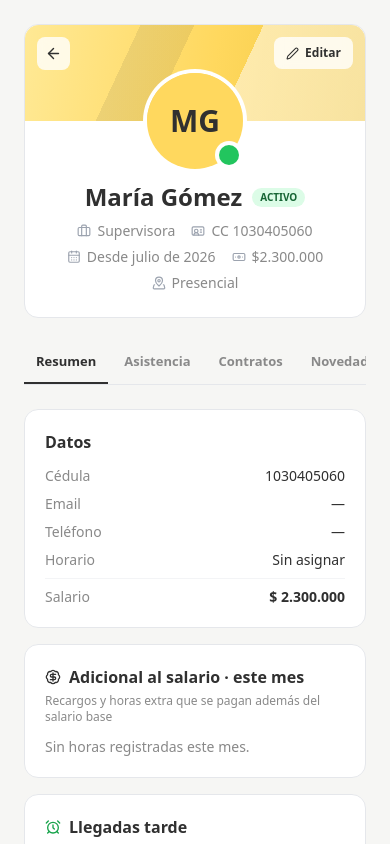
Test case: guardar en «Editar datos» › si no hay respuesta del servidor, lo dice con sus palabras
Click the button "Editar" at (314, 53), box 274,37 -> 353,69
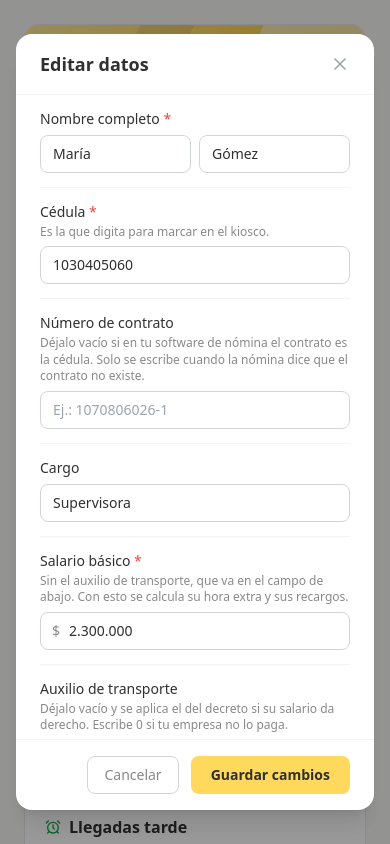
Check: the heading "Editar datos" is shown, box 40,50 -> 149,78
Click the button "Guardar cambios" at (270, 775), box 191,756 -> 350,794
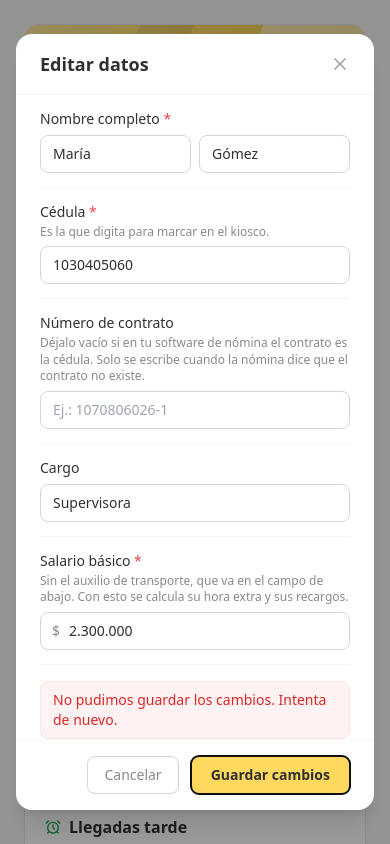
Check: the message reads "No pudimos guardar los cambios. Intenta de nuevo.", box 53,690 -> 326,729
